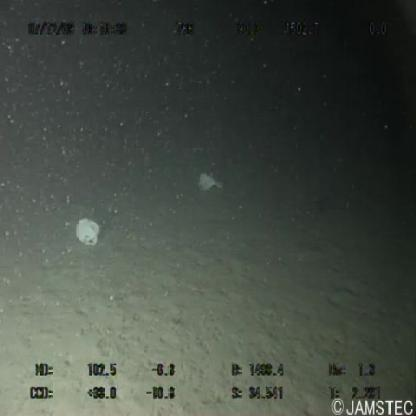Rác: (74, 214, 101, 252), (196, 168, 229, 198)
